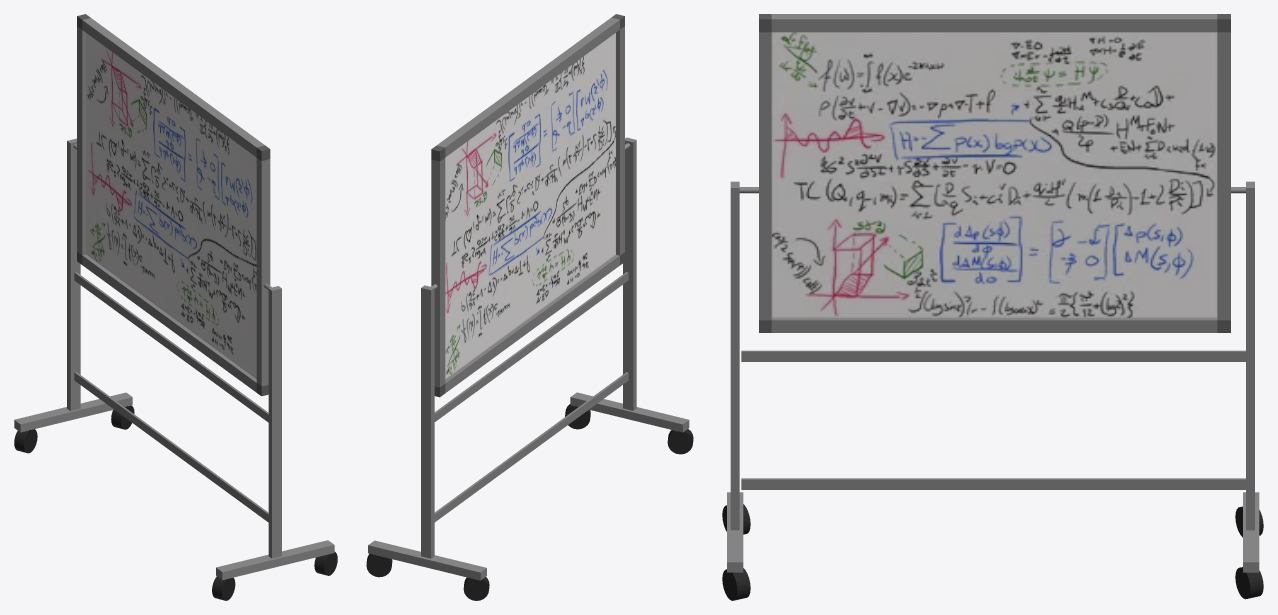
File: whiteboard-mobile.glb
The picture shows the model from 3 angles, left to right: view 1: azimuth 30°, elevation 25°; view 2: azimuth 150°, elevation 25°; view 3: azimuth 270°, elevation 25°; orthographic projection. The views are drawn at different scales.
Visible parts, largest first — view 1: pCube1, pCube3; view 2: pCube1, pCube3; view 3: pCube1, pCube3.
Part boxes in pixels (bbox=[...]): pCube1: bbox=[77, 14, 270, 396]; pCube3: bbox=[14, 138, 337, 600]; pCube1: bbox=[431, 14, 624, 397]; pCube3: bbox=[366, 137, 693, 600]; pCube1: bbox=[759, 14, 1230, 332]; pCube3: bbox=[722, 181, 1263, 600].
Bounding box in the file's own units: 0.5549 × 1.8 × 1.61.
Materials: 4 (1 with a texture image).
